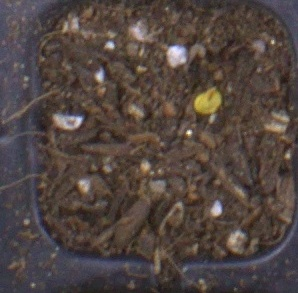chilli seed: (193, 86, 222, 114)
